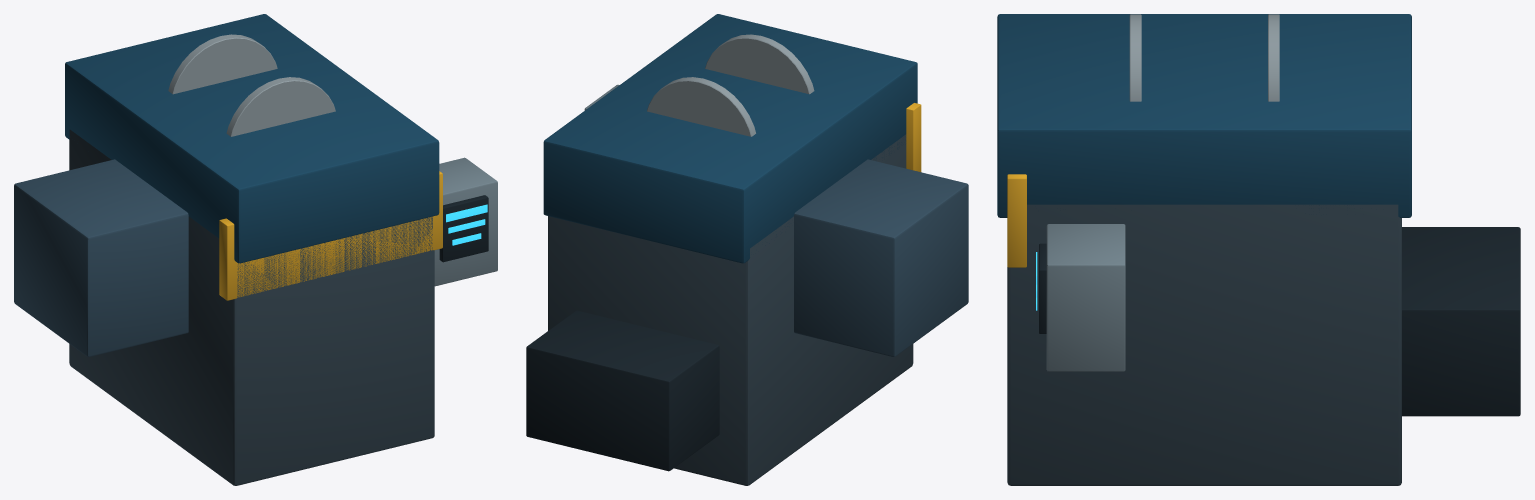
The model's file is disc_shear_mo.glb.
3 renders of one model, left to right at view 1: azimuth 30°, elevation 25°; view 2: azimuth 150°, elevation 25°; view 3: azimuth 270°, elevation 25°, orthographic. The views are drawn at different scales.
Visible parts, largest first — view 1: Asset_disc_shear; view 2: Asset_disc_shear; view 3: Asset_disc_shear.
Part boxes in pixels (x1,y1,x2,y2): Asset_disc_shear: (14,14,497,485); Asset_disc_shear: (526,14,968,485); Asset_disc_shear: (997,14,1520,485).
Size of the model in its own units: 2.65 by 2.28 by 2.65.
